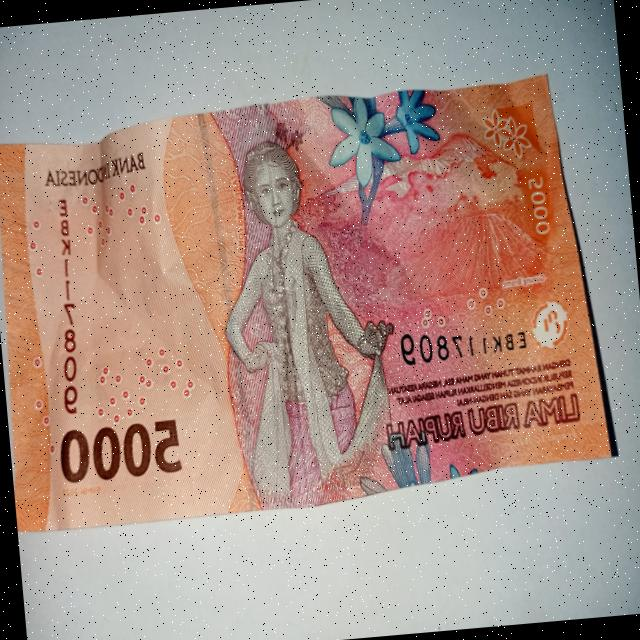5K: (0, 63, 632, 550)
